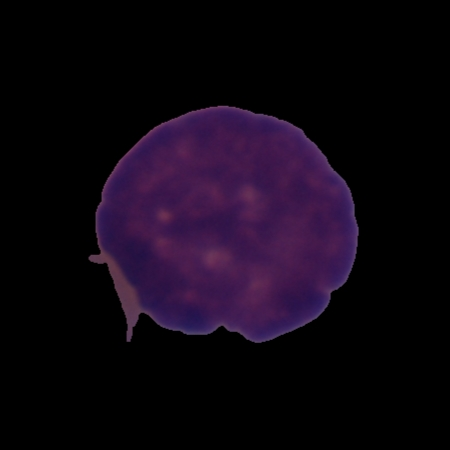ALL: (85, 102, 362, 344)
